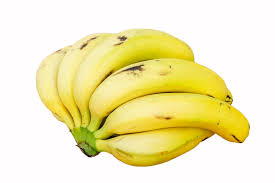banana: (91, 56, 245, 120), (91, 86, 251, 146), (84, 119, 234, 167), (31, 24, 88, 135), (83, 16, 211, 64)
